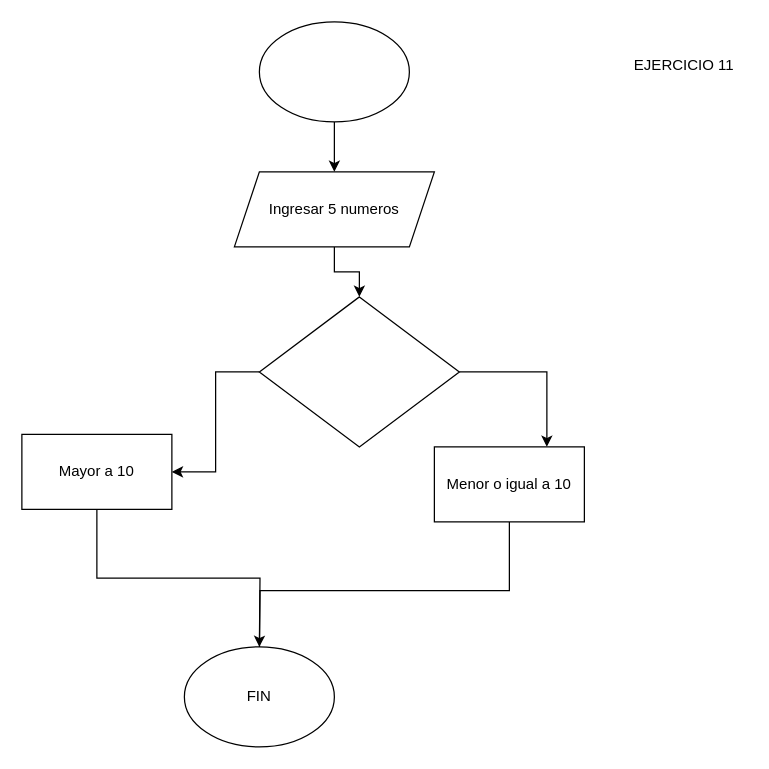
Image size: 769x769. Some labels were removed from this diagram. The shapes that lost their labels are listed below. From the top down, each one's centre as x and y in pixels, then its label:
(x=333, y=71): INICIO
(x=358, y=371): El tercer numero es mayor que 10
